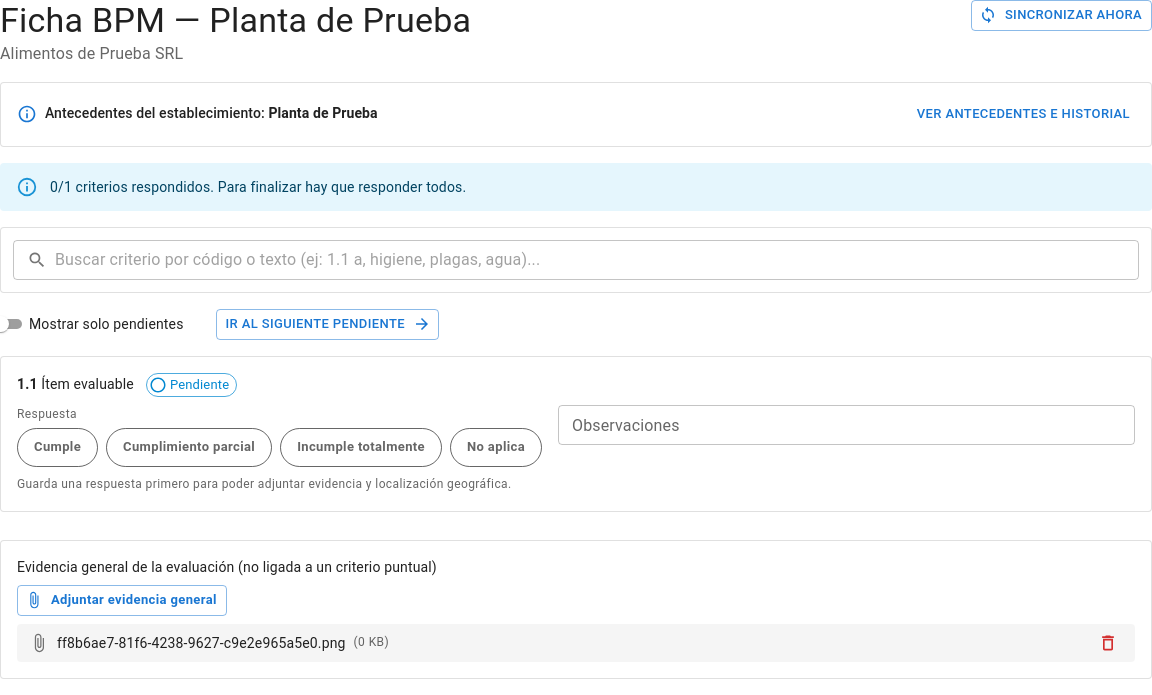
Test: EjecutarEvaluacion — en línea (comportamiento existente sin romper) › muestra modal de advertencia y confirmación antes de eliminar un archivo de evidencia
This screenshot has width=1152, height=695.
Expected: the text "ff8b6ae7-81f6-4238-9627-c9e2e965a5e0.png" is shown, [57,633,346,653]
# Al hacer clic en eliminar, NO elimina inmediatamente: abre diálogo de confirmación
Click the button named "Eliminar evidencia": (1108, 643) [1093,628,1123,658]
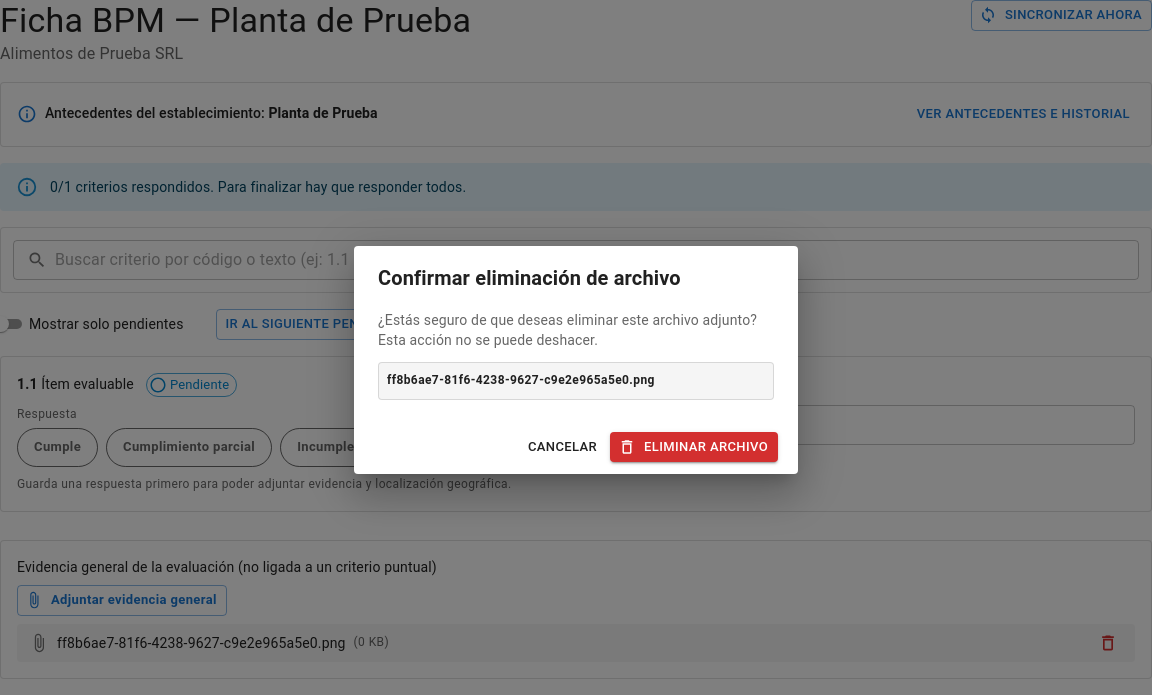
Now the heading "Confirmar eliminación de archivo" is shown, box [378,266,681,290]
Now the text "¿Estás seguro de que deseas eliminar este archivo adjunto?" is shown, box [378,312,757,348]
Now the button "Cancelar" is shown
# Cancelar cierra el diálogo sin eliminar
Click the button "Cancelar": (563, 447) [523,432,602,462]
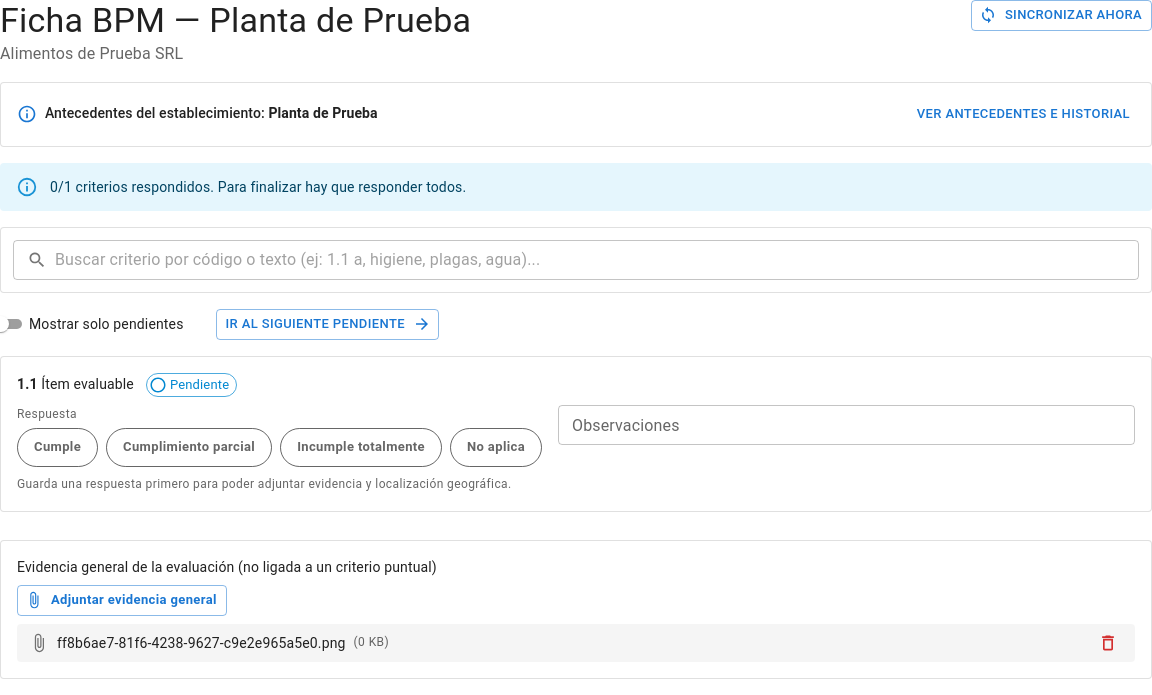
Expected: the text "ff8b6ae7-81f6-4238-9627-c9e2e965a5e0.png" is shown, [57,633,346,653]
Now the heading "Confirmar eliminación de archivo" is gone
